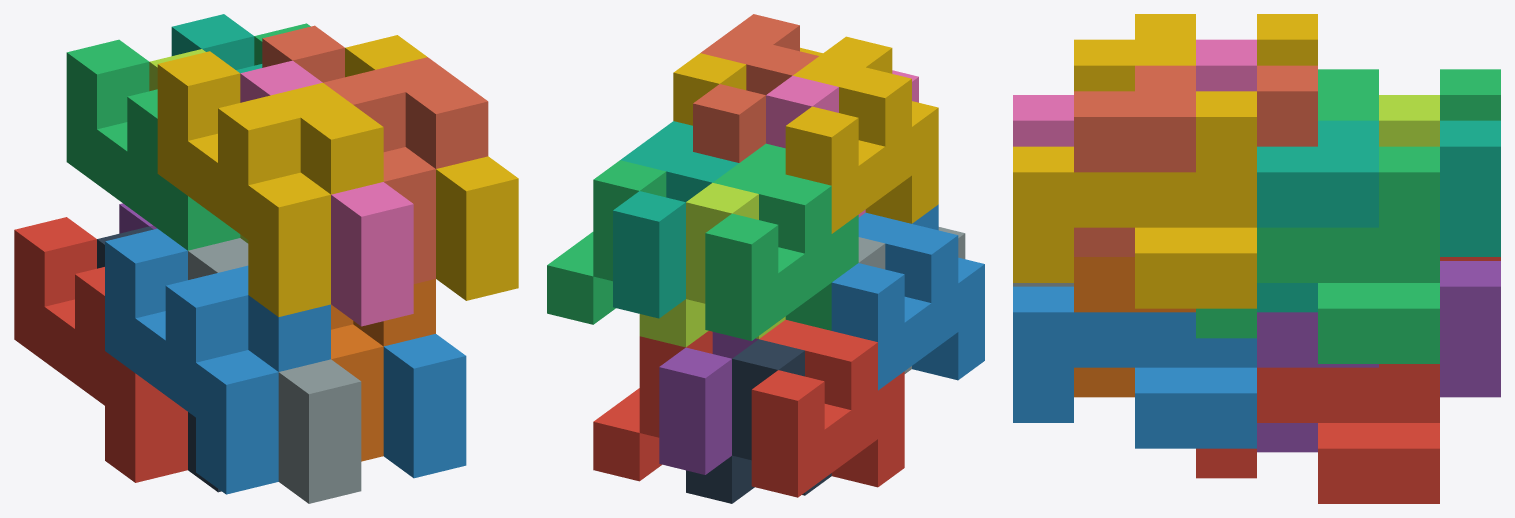
Rendered from tiling.obj.
The picture shows the model from 3 angles, left to right: view 1: azimuth 30°, elevation 25°; view 2: azimuth 150°, elevation 25°; view 3: azimuth 270°, elevation 25°; orthographic projection. The views are drawn at different scales.
Visible parts, largest first — view 1: copy_1_domain_4, copy_1_domain_2, copy_1_domain_1, copy_1_domain_8, copy_1_domain_3, copy_2_domain_4, copy_2_domain_8, copy_2_domain_2, copy_2_domain_6, copy_1_domain_6, copy_1_domain_7, copy_2_domain_1 (+1 smaller); view 2: copy_1_domain_1, copy_1_domain_4, copy_1_domain_3, copy_1_domain_2, copy_1_domain_7, copy_1_domain_8, copy_1_domain_5, copy_2_domain_7, copy_2_domain_5, copy_2_domain_3, copy_2_domain_1, copy_2_domain_4 (+2 smaller); view 3: copy_2_domain_8, copy_2_domain_7, copy_2_domain_6, copy_2_domain_5, copy_1_domain_7, copy_1_domain_8, copy_1_domain_5, copy_1_domain_4, copy_2_domain_4, copy_1_domain_3, copy_1_domain_6, copy_2_domain_3.
Boxes of the visible parts, box(x1,y1,x2,y2) form: copy_1_domain_4: box(157, 51, 383, 316); copy_1_domain_2: box(105, 228, 330, 494); copy_1_domain_1: box(14, 217, 187, 482); copy_1_domain_8: box(262, 25, 488, 283); copy_1_domain_3: box(66, 39, 240, 250); copy_2_domain_4: box(240, 60, 413, 326); copy_2_domain_8: box(345, 35, 518, 300); copy_2_domain_2: box(188, 238, 361, 503); copy_2_domain_6: box(383, 334, 466, 478); copy_1_domain_6: box(331, 279, 435, 461); copy_1_domain_7: box(171, 14, 262, 73); copy_2_domain_1: box(97, 226, 221, 492); copy_1_domain_1: box(751, 319, 904, 497); copy_1_domain_4: box(785, 36, 938, 233); copy_1_domain_3: box(705, 143, 858, 340); copy_1_domain_2: box(831, 204, 984, 390); copy_1_domain_7: box(613, 121, 738, 318); copy_1_domain_8: box(693, 14, 818, 162); copy_1_domain_5: box(659, 332, 758, 474); copy_2_domain_7: box(547, 160, 666, 324); copy_2_domain_5: box(593, 331, 712, 481); copy_2_domain_3: box(639, 182, 785, 347); copy_2_domain_1: box(686, 339, 831, 503); copy_2_domain_4: box(766, 70, 918, 217); copy_2_domain_8: box(1013, 91, 1256, 308); copy_2_domain_7: box(1196, 146, 1439, 363); copy_2_domain_6: box(1013, 286, 1256, 448); copy_2_domain_5: box(1196, 364, 1439, 503); copy_1_domain_7: box(1257, 120, 1500, 312); copy_1_domain_8: box(1074, 65, 1317, 256); copy_1_domain_5: box(1257, 261, 1500, 452); copy_1_domain_4: box(1074, 14, 1317, 91); copy_2_domain_4: box(1013, 39, 1256, 146); copy_1_domain_3: box(1318, 69, 1500, 120); copy_1_domain_6: box(1074, 257, 1195, 397); copy_2_domain_3: box(1379, 95, 1439, 146).
Size of the model in its own units: 6 by 7 by 8.
